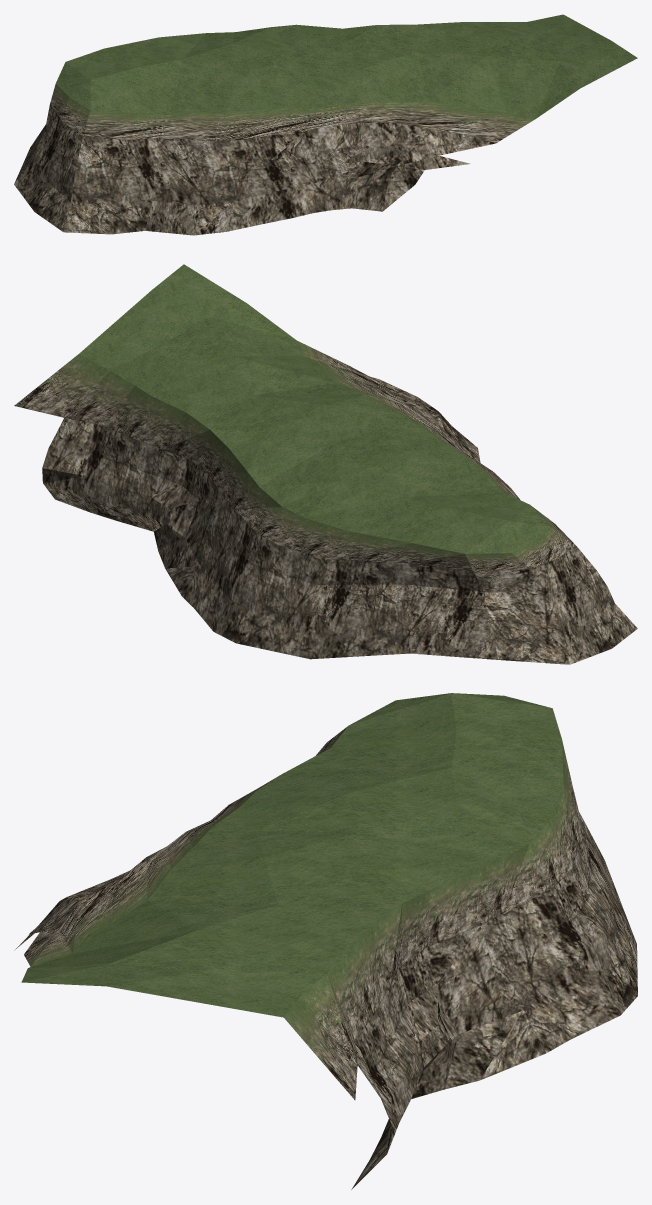
Rendered from a_carisle_mid_landmass_02_00.fbx.
3 renders of one model, top to bottom at view 1: azimuth 30°, elevation 25°; view 2: azimuth 150°, elevation 25°; view 3: azimuth 270°, elevation 25°, orthographic. The views are drawn at different scales.
Visible parts, largest first — view 1: a_carisle_mid_landmass_02_00; view 2: a_carisle_mid_landmass_02_00; view 3: a_carisle_mid_landmass_02_00.
Part boxes in pixels (left/top/right/bottom): a_carisle_mid_landmass_02_00: left=14, top=14, right=637, bottom=235; a_carisle_mid_landmass_02_00: left=14, top=264, right=637, bottom=664; a_carisle_mid_landmass_02_00: left=14, top=693, right=637, bottom=1189.
Bounding box in the file's own units: 23.12 × 14.9 × 5.35.
